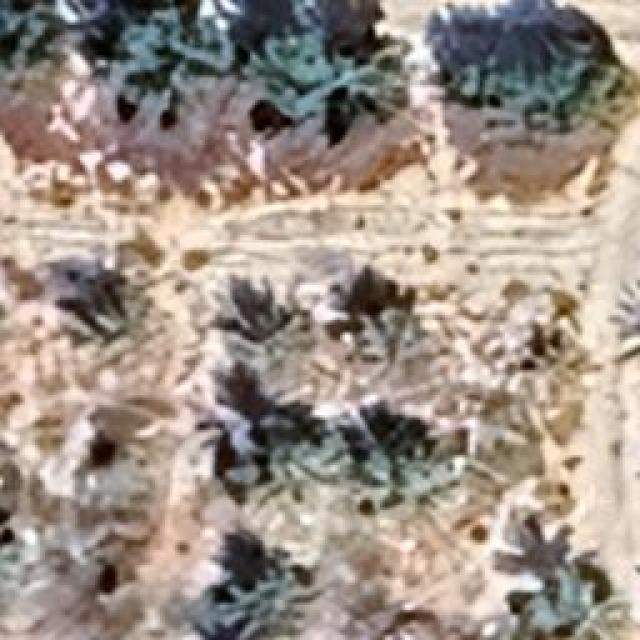PalmTree: (88, 83, 545, 479), (226, 401, 342, 501), (482, 564, 636, 638), (350, 444, 462, 538), (332, 271, 426, 374), (58, 268, 152, 362), (222, 286, 308, 379), (227, 568, 315, 638), (0, 28, 59, 112), (0, 501, 24, 609), (608, 280, 638, 365), (0, 508, 18, 614)
